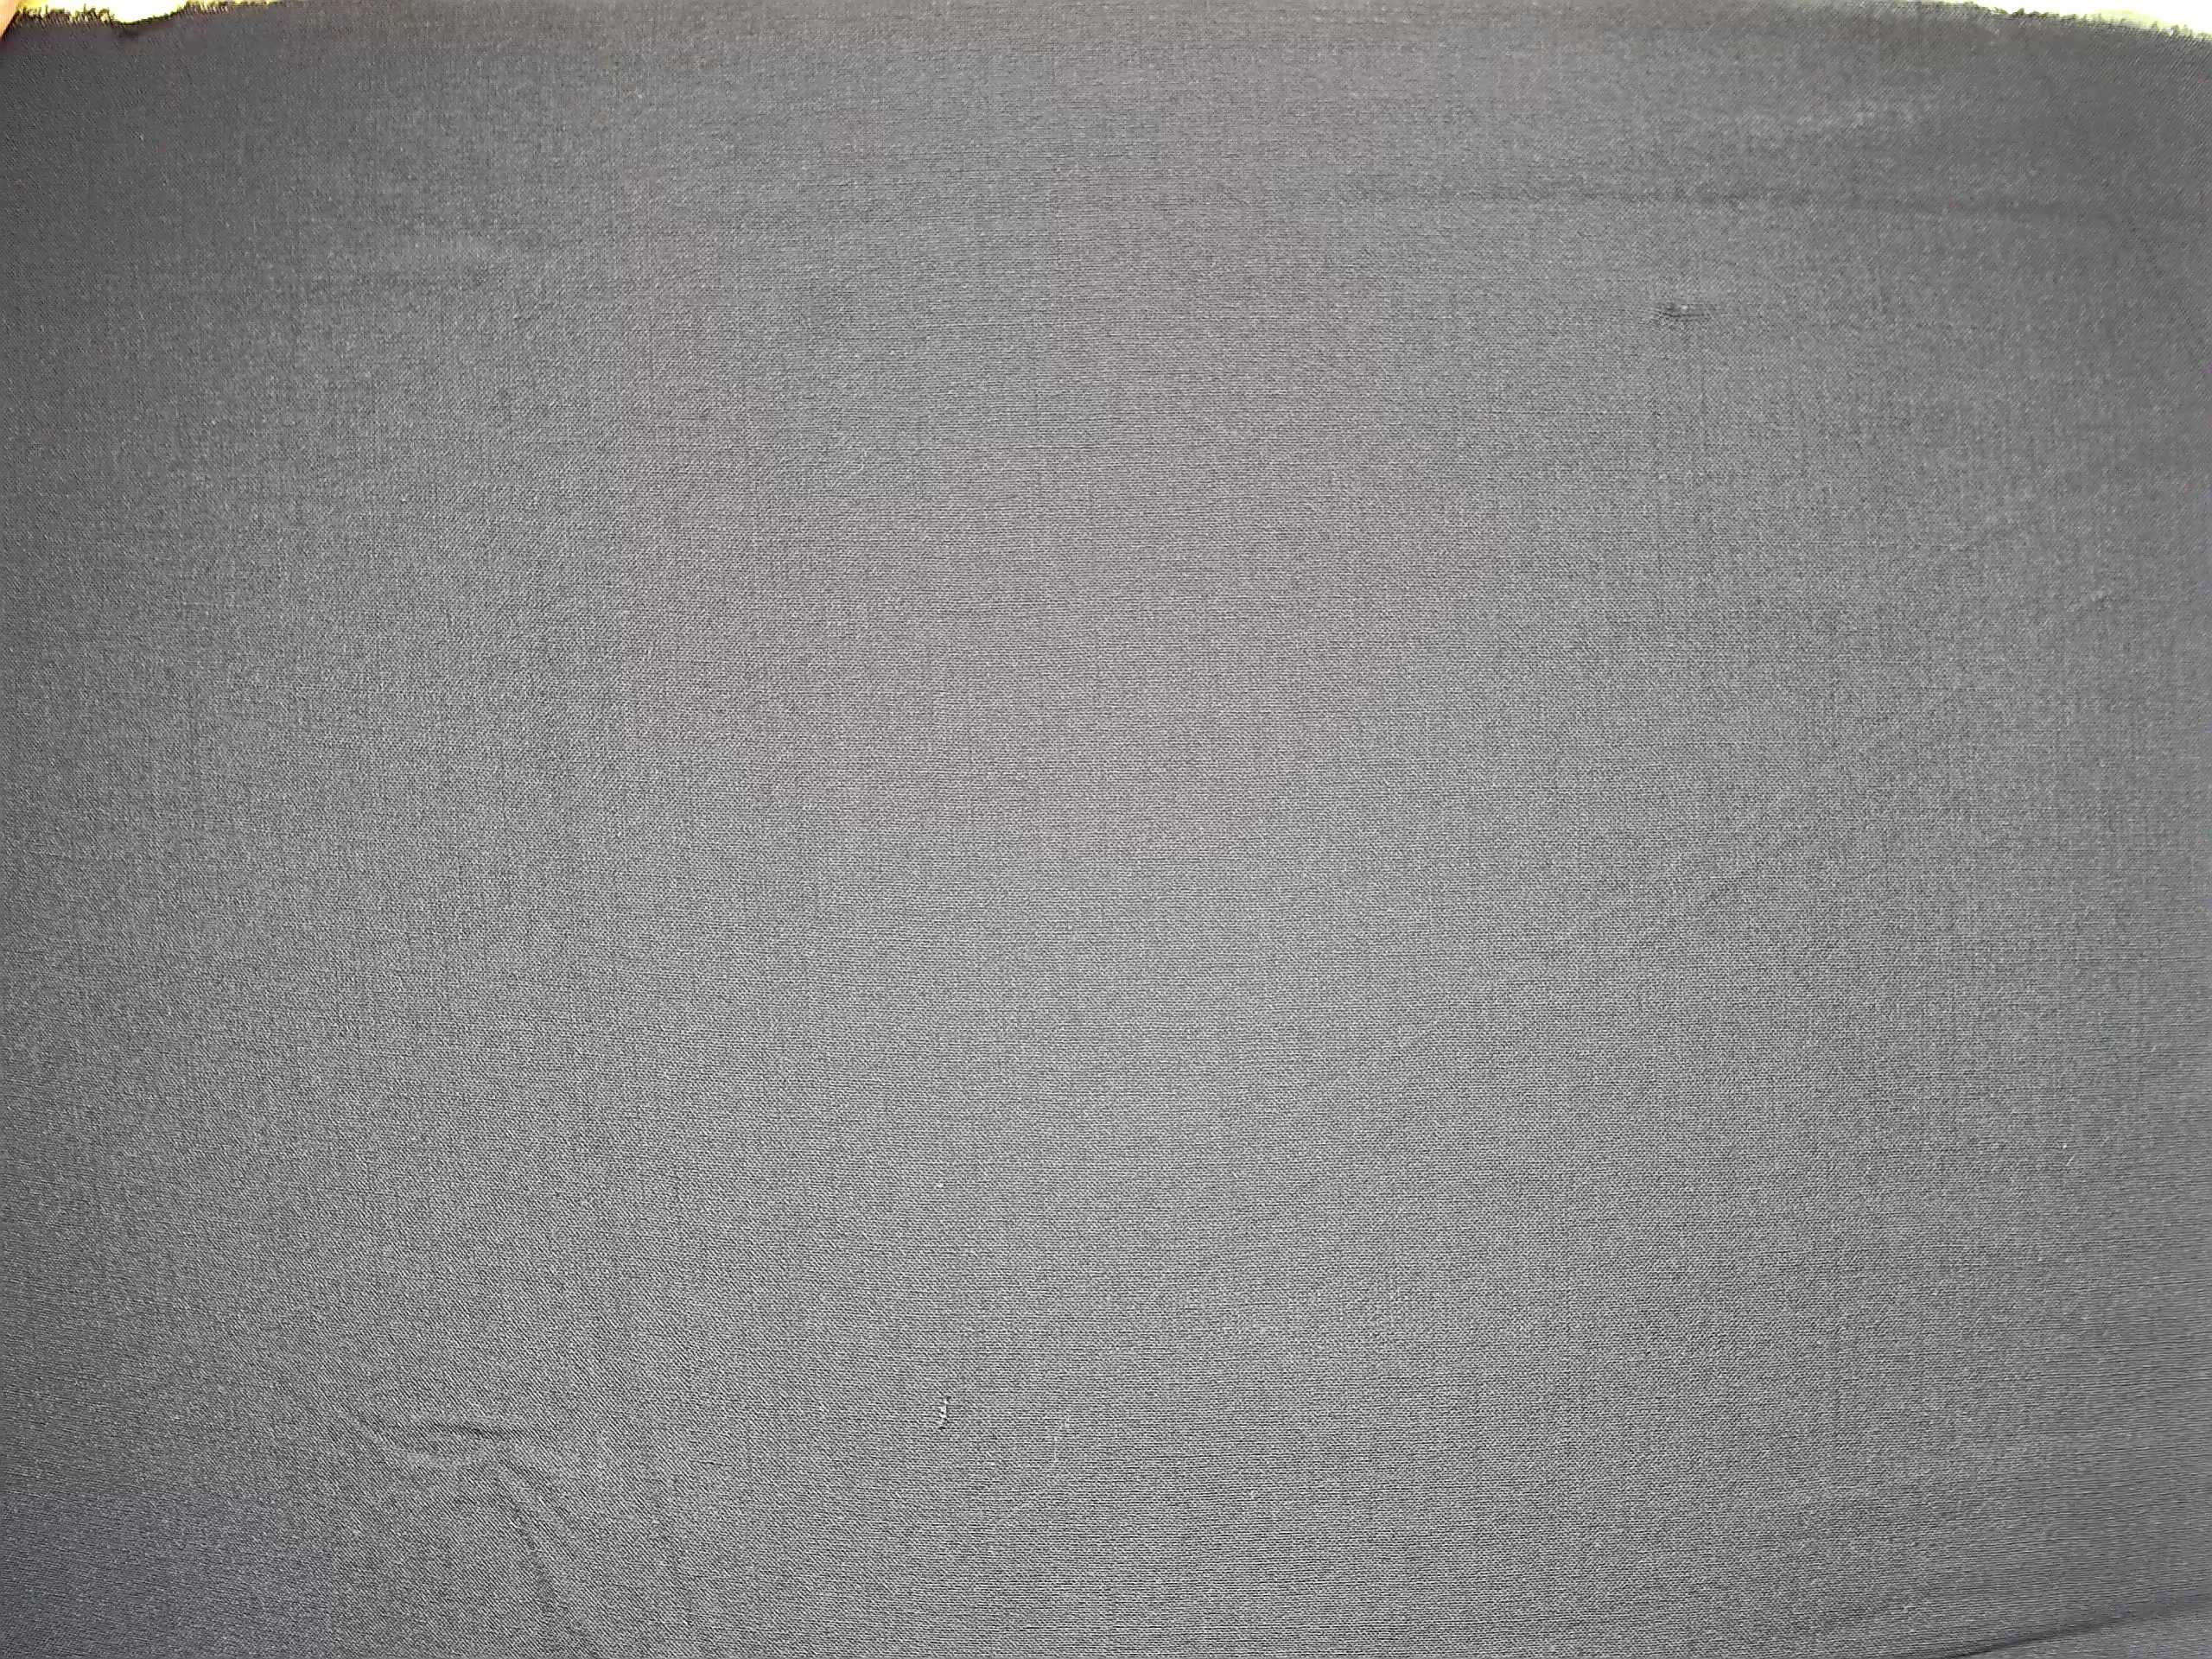thin-spinning: (1629, 279, 1775, 345)
